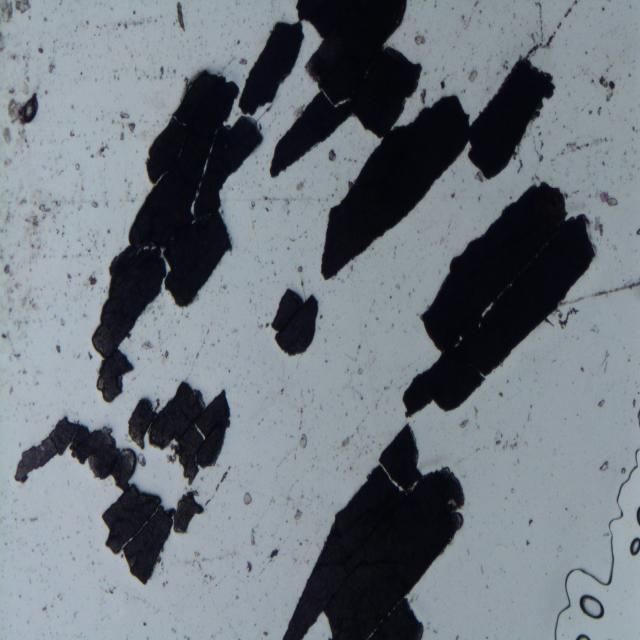Air bubble: (552, 443, 640, 640), (579, 593, 605, 620), (629, 536, 640, 556), (575, 633, 591, 640), (635, 505, 640, 527)
Background material: (561, 279, 640, 306), (550, 0, 580, 43), (6, 92, 42, 125), (25, 196, 59, 229), (206, 465, 232, 504), (22, 227, 50, 262), (524, 28, 554, 58), (115, 10, 159, 30), (115, 107, 137, 142), (0, 0, 33, 23), (594, 73, 616, 104), (2, 328, 22, 361), (19, 52, 33, 95), (9, 306, 29, 332), (553, 308, 579, 328), (0, 198, 14, 235), (558, 140, 590, 156), (3, 260, 20, 290), (530, 0, 543, 38), (176, 0, 188, 35), (186, 551, 207, 571), (460, 8, 478, 30), (122, 178, 136, 205), (133, 68, 159, 82), (600, 190, 618, 208), (532, 138, 544, 164), (15, 128, 29, 150), (494, 440, 518, 452), (592, 214, 604, 238), (464, 66, 480, 84), (70, 246, 90, 260), (0, 126, 14, 146), (599, 351, 611, 374), (95, 144, 109, 161), (6, 287, 16, 308), (30, 298, 42, 315), (473, 404, 481, 429), (53, 224, 67, 238), (203, 576, 218, 589), (418, 88, 429, 105), (267, 549, 280, 563), (284, 197, 293, 217), (589, 322, 601, 337), (242, 490, 252, 508), (138, 452, 149, 468), (46, 61, 59, 74), (283, 492, 295, 506), (142, 340, 156, 352), (75, 163, 86, 178), (351, 423, 362, 438), (352, 386, 363, 401), (236, 57, 251, 68), (101, 585, 116, 596), (159, 348, 169, 364), (293, 509, 303, 525), (327, 147, 337, 163), (597, 458, 609, 471), (294, 179, 308, 190), (250, 528, 258, 547), (473, 170, 485, 182), (300, 433, 308, 451), (592, 137, 608, 146), (340, 436, 352, 448), (517, 157, 525, 175), (4, 154, 14, 168), (355, 343, 363, 360), (439, 78, 449, 91), (158, 64, 166, 80), (528, 174, 542, 183), (318, 203, 327, 217), (309, 388, 317, 403), (414, 34, 426, 44), (0, 36, 7, 52), (245, 560, 252, 576), (460, 418, 470, 429), (362, 446, 374, 455), (264, 193, 276, 202), (157, 331, 164, 346), (64, 271, 74, 281), (334, 276, 345, 285), (193, 351, 201, 363), (391, 244, 397, 260), (300, 388, 306, 404), (29, 514, 38, 524), (625, 353, 634, 363), (448, 191, 458, 200), (60, 253, 70, 262), (96, 22, 107, 30), (356, 366, 364, 377), (526, 410, 532, 424), (88, 274, 95, 286), (296, 104, 302, 118), (11, 50, 17, 64), (33, 368, 41, 378), (38, 46, 46, 56), (267, 497, 275, 507), (296, 408, 306, 416), (598, 400, 606, 409), (556, 545, 564, 554), (21, 298, 29, 307), (170, 625, 178, 634), (52, 38, 61, 46), (171, 67, 178, 77), (635, 224, 640, 238), (220, 281, 226, 292), (92, 198, 98, 209), (56, 593, 64, 601), (261, 630, 269, 638), (32, 380, 40, 388), (54, 345, 62, 353), (20, 368, 29, 375), (40, 605, 47, 614), (60, 318, 66, 328), (570, 188, 580, 194), (298, 420, 304, 430), (597, 107, 603, 117), (181, 634, 191, 640), (628, 172, 634, 182), (620, 466, 626, 476), (637, 409, 640, 428), (69, 129, 75, 138), (8, 386, 14, 395), (86, 351, 93, 358), (528, 520, 534, 528), (83, 312, 89, 320), (72, 612, 78, 620), (514, 457, 520, 465), (480, 564, 484, 576), (43, 88, 49, 96), (296, 540, 304, 546), (549, 156, 557, 162), (250, 202, 256, 210), (298, 266, 304, 274), (152, 315, 157, 324), (540, 138, 544, 149), (499, 391, 505, 398), (70, 556, 76, 563), (510, 486, 516, 493), (318, 403, 324, 410), (384, 384, 390, 391), (586, 192, 592, 199), (318, 314, 324, 321), (280, 388, 286, 395), (349, 262, 353, 272), (396, 281, 400, 291), (300, 278, 304, 288), (335, 464, 340, 472), (303, 228, 307, 238), (18, 592, 23, 600), (632, 398, 636, 408), (601, 159, 605, 168), (474, 447, 480, 453), (622, 150, 628, 156), (42, 17, 48, 23), (58, 0, 64, 6), (164, 582, 170, 588), (329, 192, 335, 198), (343, 368, 350, 373), (408, 290, 412, 298), (323, 336, 327, 344), (485, 582, 489, 590), (526, 538, 530, 546), (20, 517, 26, 522), (286, 244, 291, 250), (633, 127, 638, 133), (580, 367, 586, 372), (324, 358, 330, 363), (288, 238, 294, 243), (89, 152, 94, 158), (265, 207, 271, 212), (293, 558, 297, 565), (86, 19, 90, 26), (477, 196, 481, 203), (353, 158, 357, 165), (107, 229, 112, 234), (251, 219, 256, 224), (70, 104, 74, 110), (273, 270, 277, 276), (538, 132, 542, 138), (588, 110, 592, 116), (270, 260, 274, 266), (209, 344, 216, 347), (364, 323, 368, 328), (278, 536, 282, 541), (391, 323, 395, 328), (344, 411, 348, 416), (455, 634, 458, 640), (14, 518, 18, 522), (536, 125, 540, 129), (389, 296, 393, 300), (375, 317, 379, 321), (79, 72, 83, 76), (250, 298, 252, 304), (143, 624, 147, 627), (530, 405, 533, 409), (350, 466, 352, 471)
Fragment: (88, 66, 263, 403), (318, 49, 556, 284), (402, 181, 600, 419), (283, 421, 467, 640), (10, 418, 204, 587), (241, 0, 417, 178), (124, 380, 234, 483), (268, 287, 318, 355)
